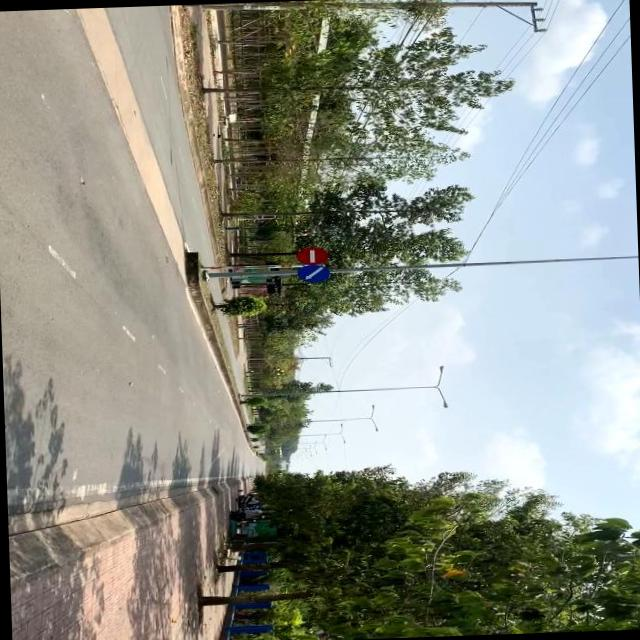P-102: (297, 246, 326, 264)
R-302a: (296, 262, 331, 286)
